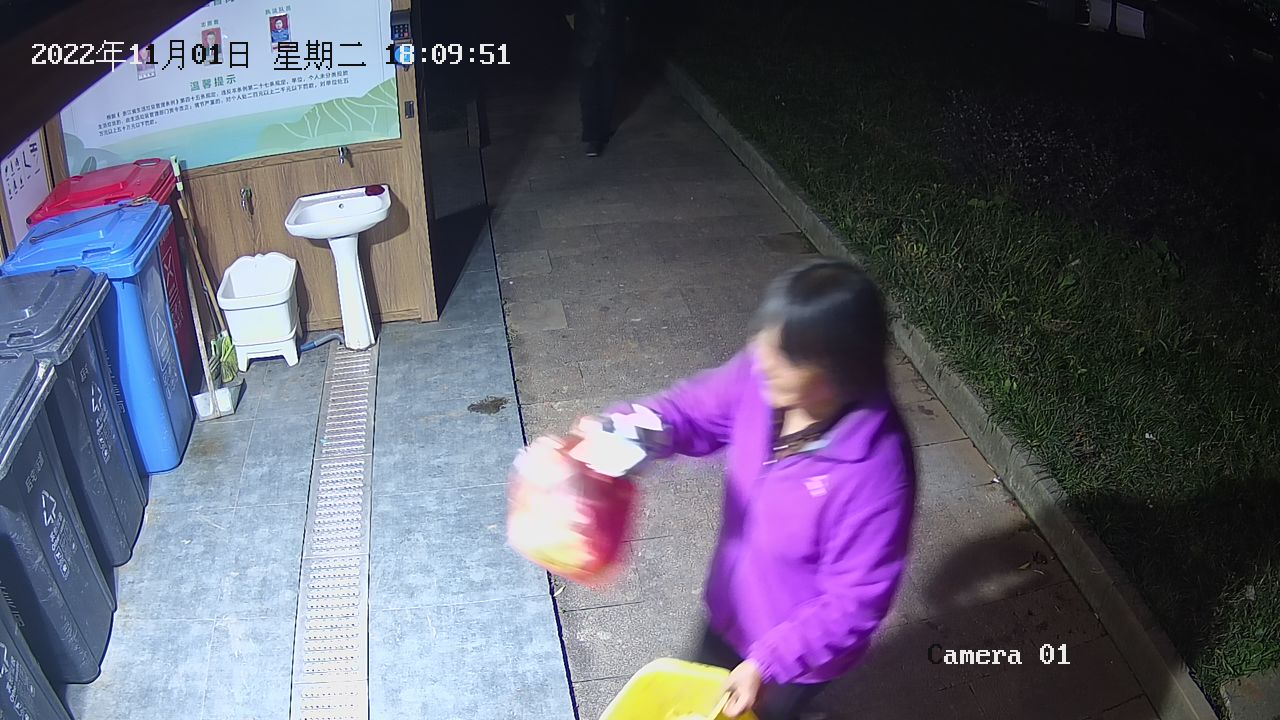garbage-bag: (502, 427, 642, 589)
person: (571, 253, 919, 720)
youtong: (595, 654, 760, 720)
